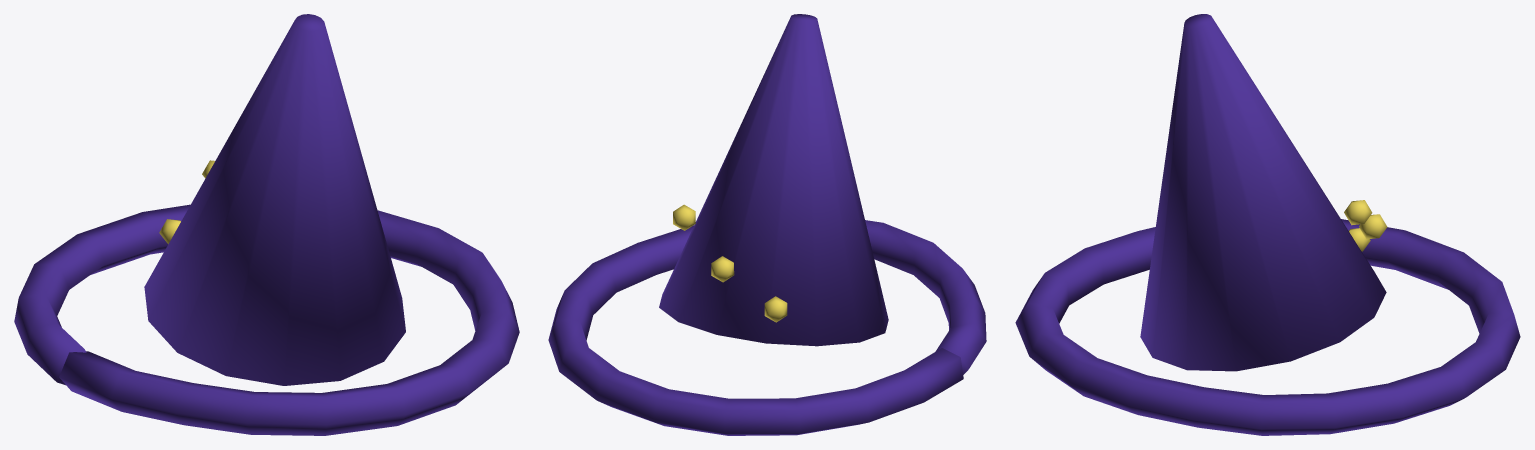
File: magic_hat.glb
3 views of the same model, side by side, from view 1: azimuth 30°, elevation 25°; view 2: azimuth 150°, elevation 25°; view 3: azimuth 270°, elevation 25° (orthographic). The views are drawn at different scales.
Parts seen in each view (by area): view 1: magic_hat_head; view 2: magic_hat_head; view 3: magic_hat_head.
Part boxes in pixels (x1=…): magic_hat_head: x1=14, y1=14, x2=519, y2=435; magic_hat_head: x1=548, y1=14, x2=986, y2=435; magic_hat_head: x1=1015, y1=14, x2=1520, y2=435.
Bounding box in the file's own units: 0.3962 × 0.3055 × 0.4223.
